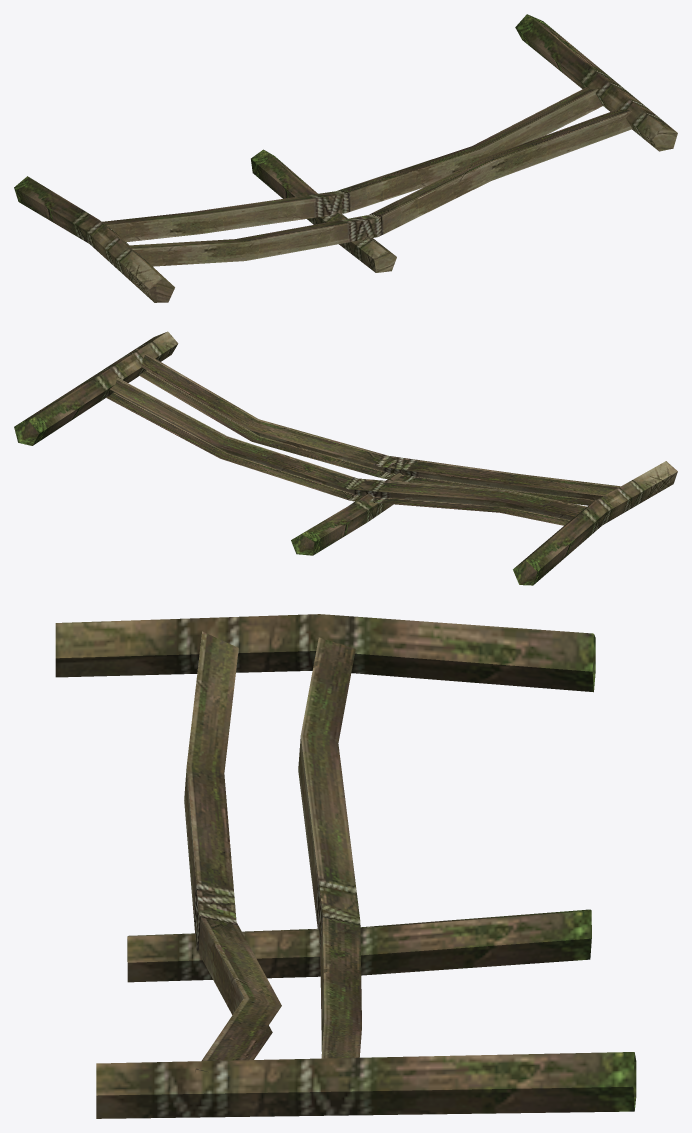
The model's file is zhanchang_fuben_303_zhalan01a.obj.
3 views of the same model, one above another, from view 1: azimuth 30°, elevation 25°; view 2: azimuth 150°, elevation 25°; view 3: azimuth 270°, elevation 25° (orthographic). The views are drawn at different scales.
Visible parts, largest first — view 1: Object02; view 2: Object02; view 3: Object02.
Boxes of the visible parts, x1,y1,x2,y2 form: Object02: (14,14,677,302); Object02: (14,331,677,585); Object02: (55,614,636,1118).
Size of the model in its own units: 203 by 33.64 by 98.41.
Materials: 1 (1 with a texture image).
